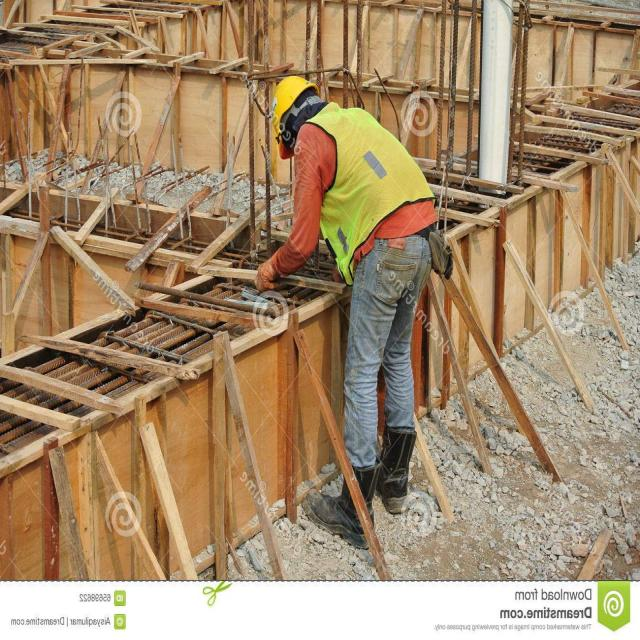Reflective-Jacket: (317, 108, 438, 264)
Safety-Helmet: (269, 72, 317, 120)
